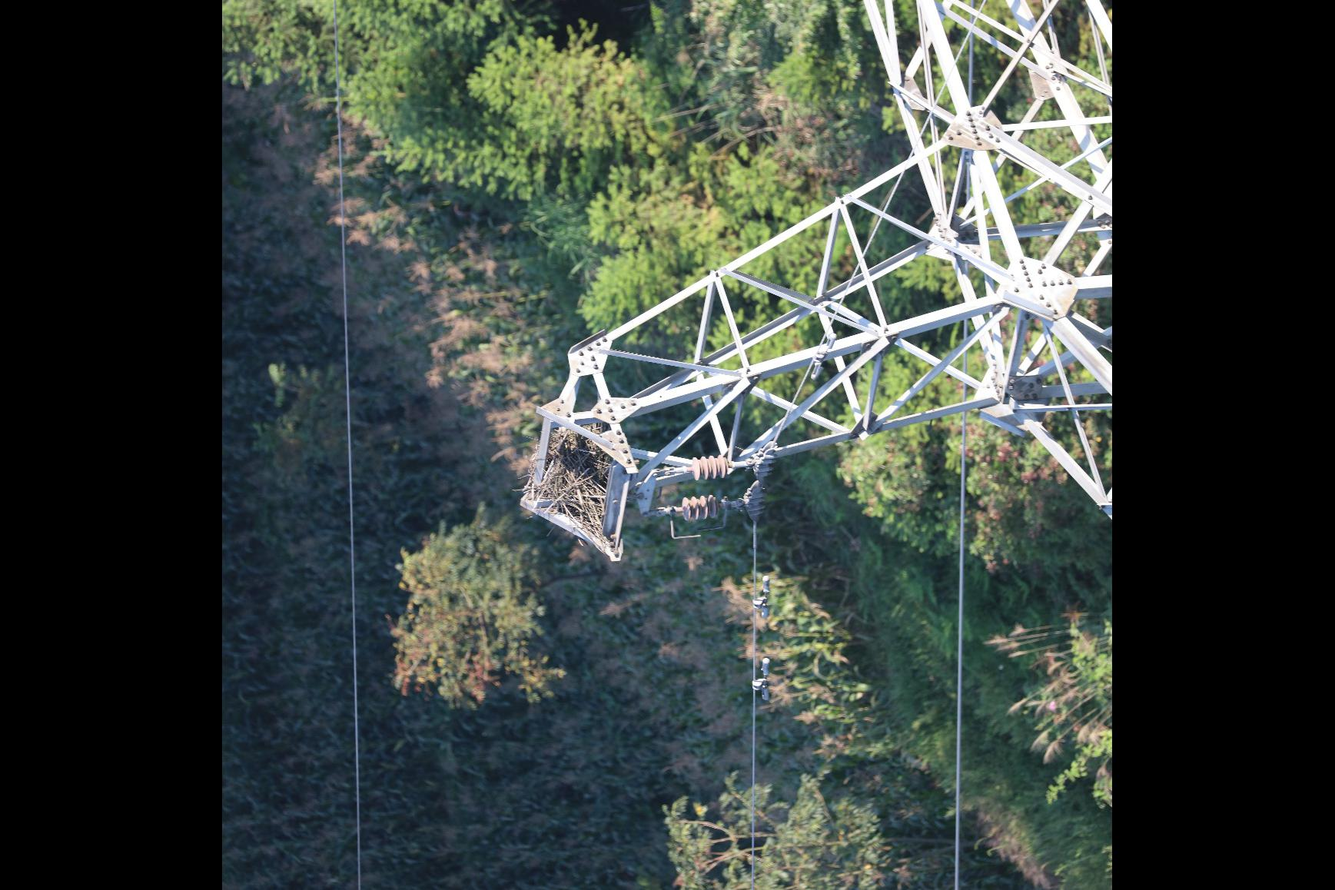damper: (749, 573, 774, 623), (749, 656, 775, 703)
nest: (524, 420, 613, 539)
